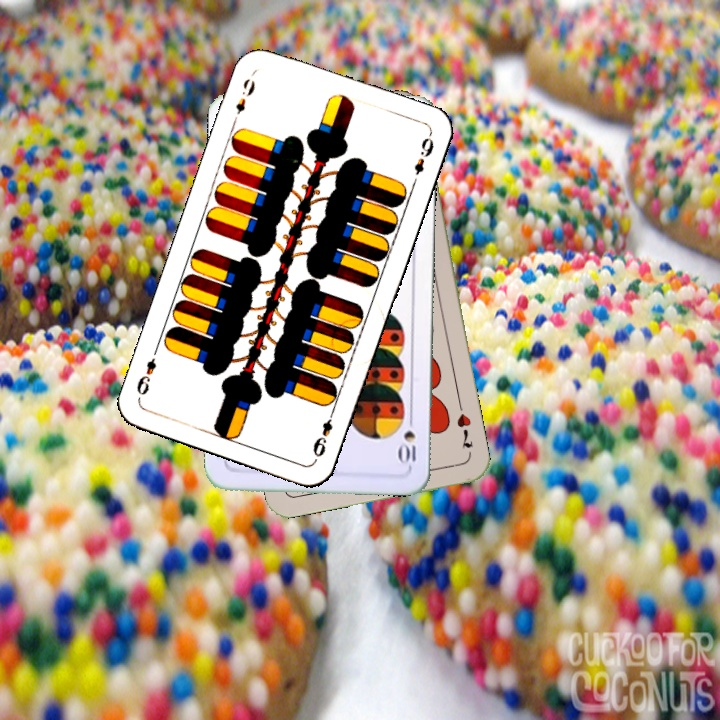E9: (308, 405, 338, 460), (231, 74, 258, 117)
H7: (452, 409, 476, 451)
S10: (397, 410, 418, 469)
